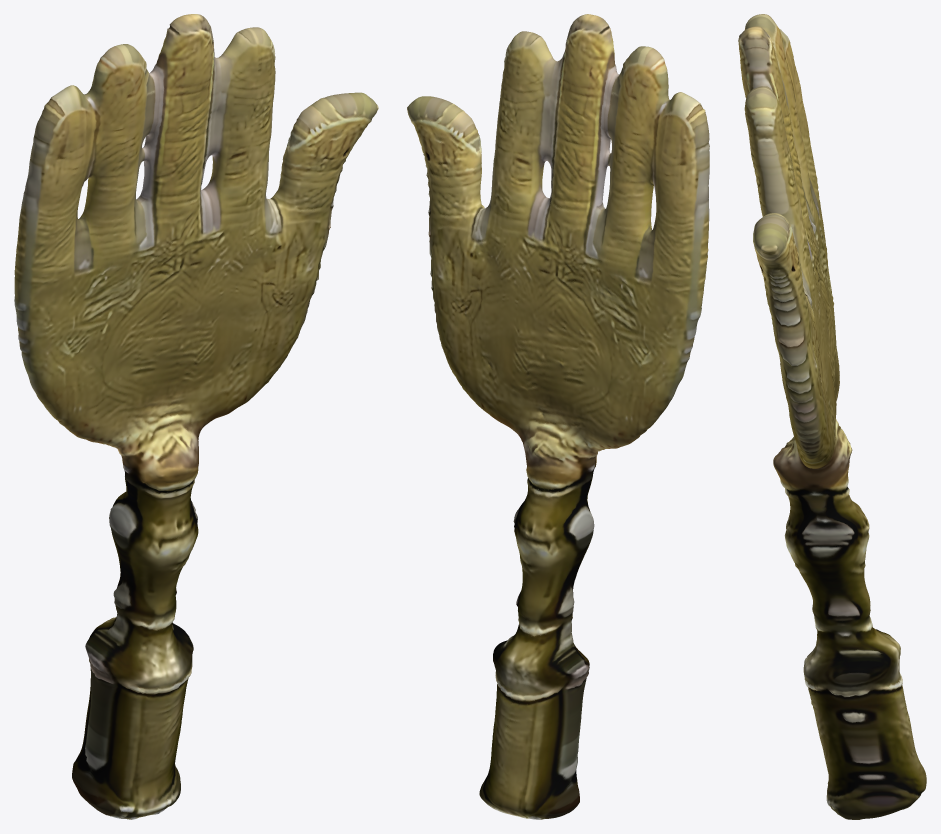
Rendered from kfl-2249.glb.
The picture shows the model from 3 angles, left to right: view 1: azimuth 30°, elevation 25°; view 2: azimuth 150°, elevation 25°; view 3: azimuth 270°, elevation 25°; orthographic projection. The views are drawn at different scales.
Parts seen in each view (by area): view 1: kfl-2249; view 2: kfl-2249; view 3: kfl-2249.
Boxes of the visible parts, x1=… form: kfl-2249: x1=14, y1=14, x2=378, y2=819; kfl-2249: x1=407, y1=14, x2=709, y2=819; kfl-2249: x1=738, y1=14, x2=926, y2=819.
Bounding box in the file's own units: 0.4259 × 0.993 × 0.2172.
1 material, 1 textured.
